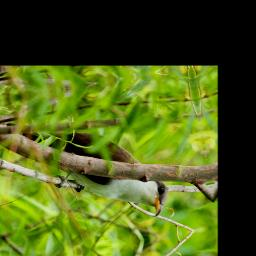Cuckoo: (4, 88, 174, 244)
